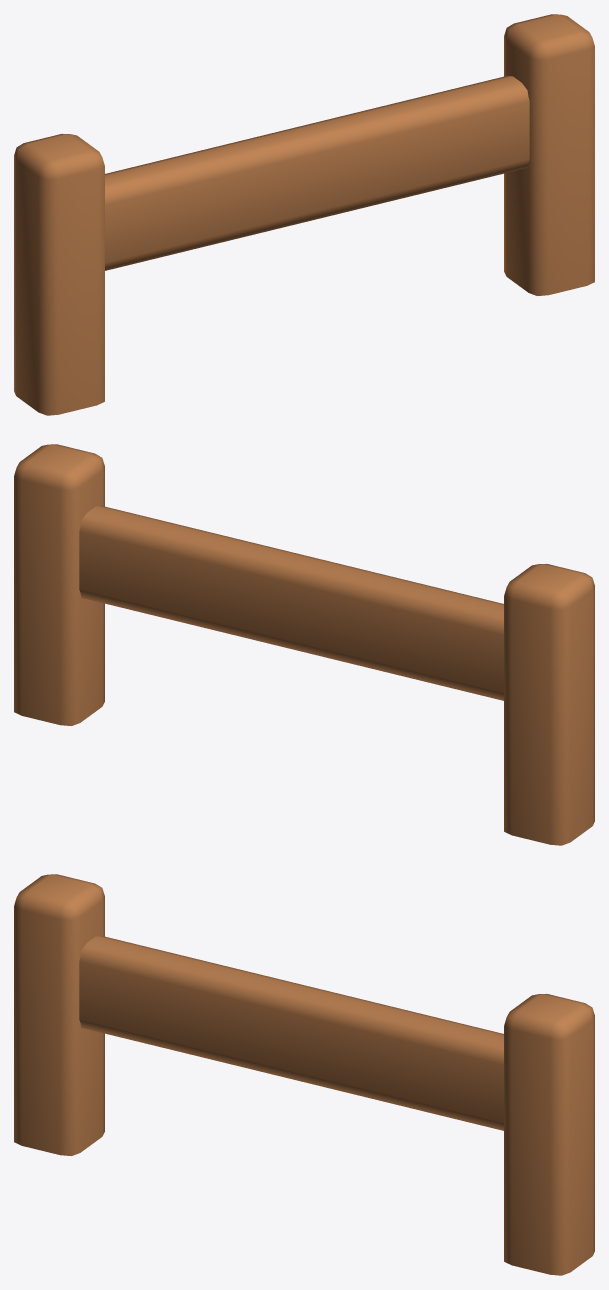
Rendered from Wooden_Fence_08.fbx.
3 renders of one model, top to bottom at view 1: azimuth 30°, elevation 25°; view 2: azimuth 150°, elevation 25°; view 3: azimuth 330°, elevation 25°, orthographic.
Visible parts, largest first — view 1: Wooden_Fence_08; view 2: Wooden_Fence_08; view 3: Wooden_Fence_08.
Boxes of the visible parts, bbox=[...] form: Wooden_Fence_08: bbox=[14, 14, 594, 415]; Wooden_Fence_08: bbox=[14, 444, 594, 845]; Wooden_Fence_08: bbox=[14, 874, 594, 1275].
Bounding box in the file's own units: 1580 × 679 × 183.
